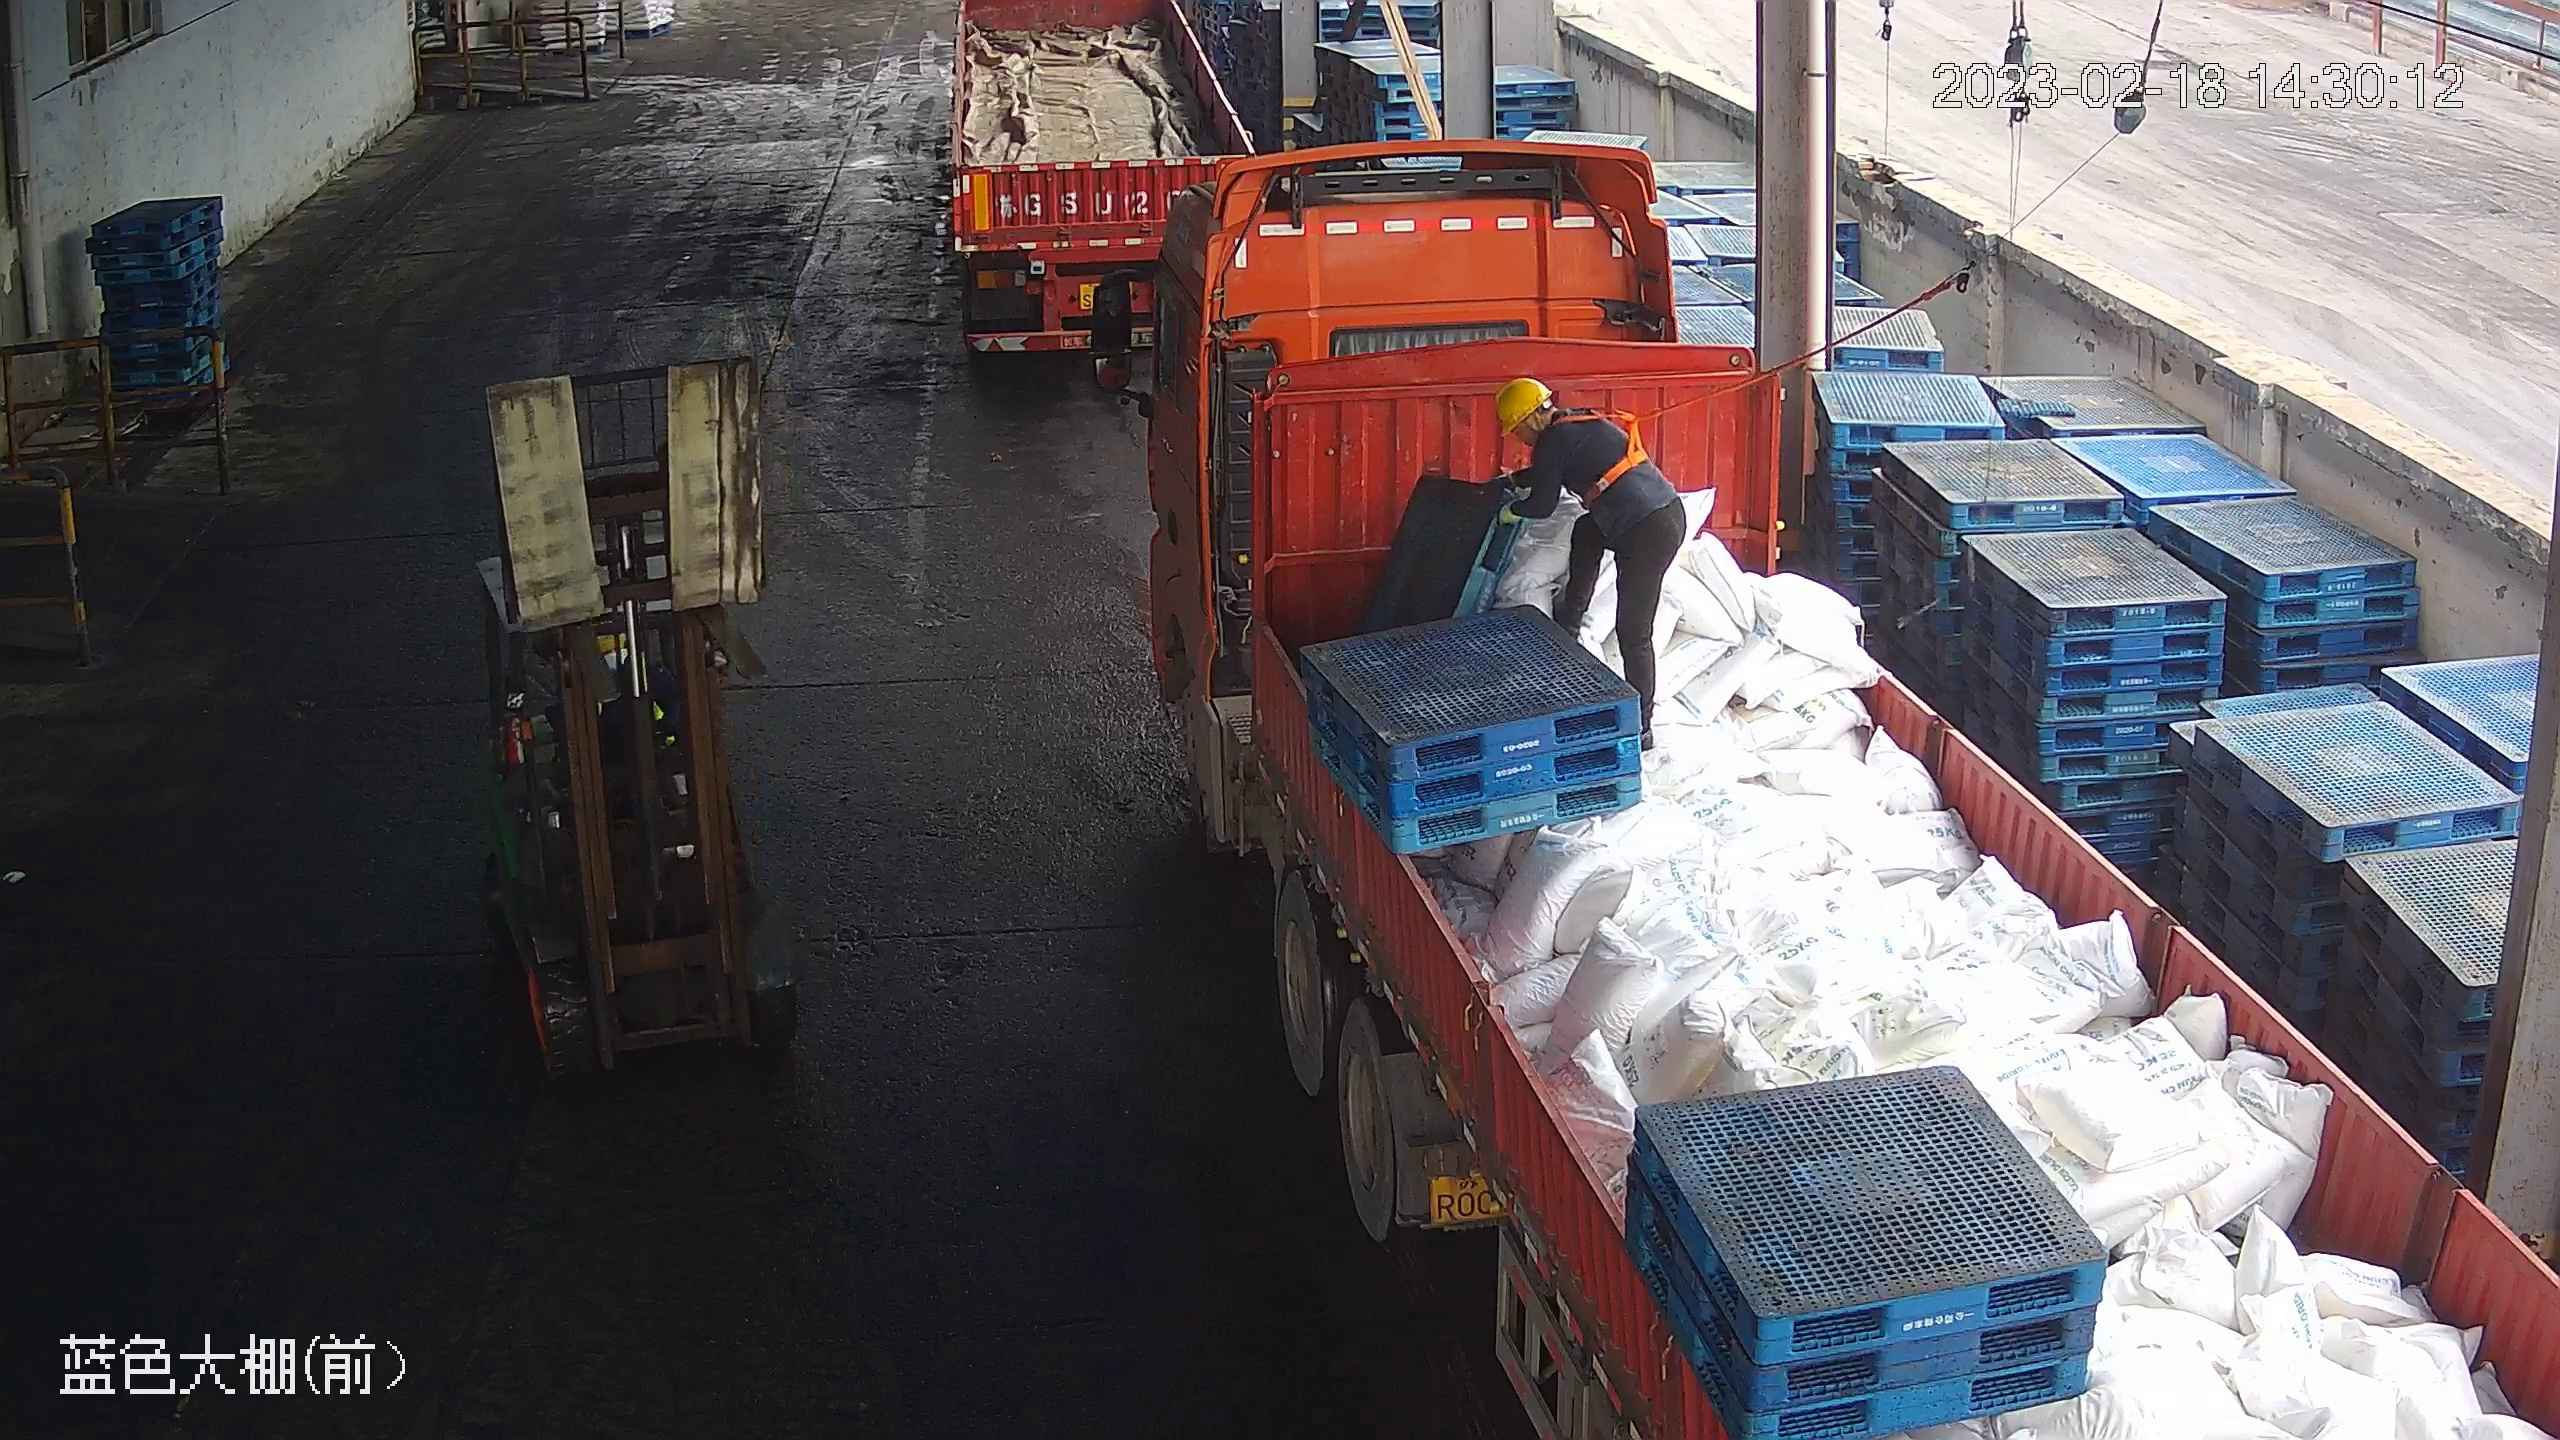belt: (1550, 399, 1662, 499)
head: (1493, 374, 1635, 468)
helmet: (1493, 374, 1552, 434)
people: (1490, 369, 1690, 740)
truck: (1109, 156, 2552, 1440), (929, 5, 1228, 362)
